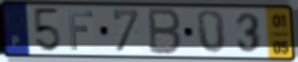0: (196, 9, 228, 56)
3: (233, 11, 262, 55)
5: (31, 6, 63, 53)
7: (111, 7, 141, 55)
B: (147, 7, 183, 57)
F: (66, 9, 95, 53)
